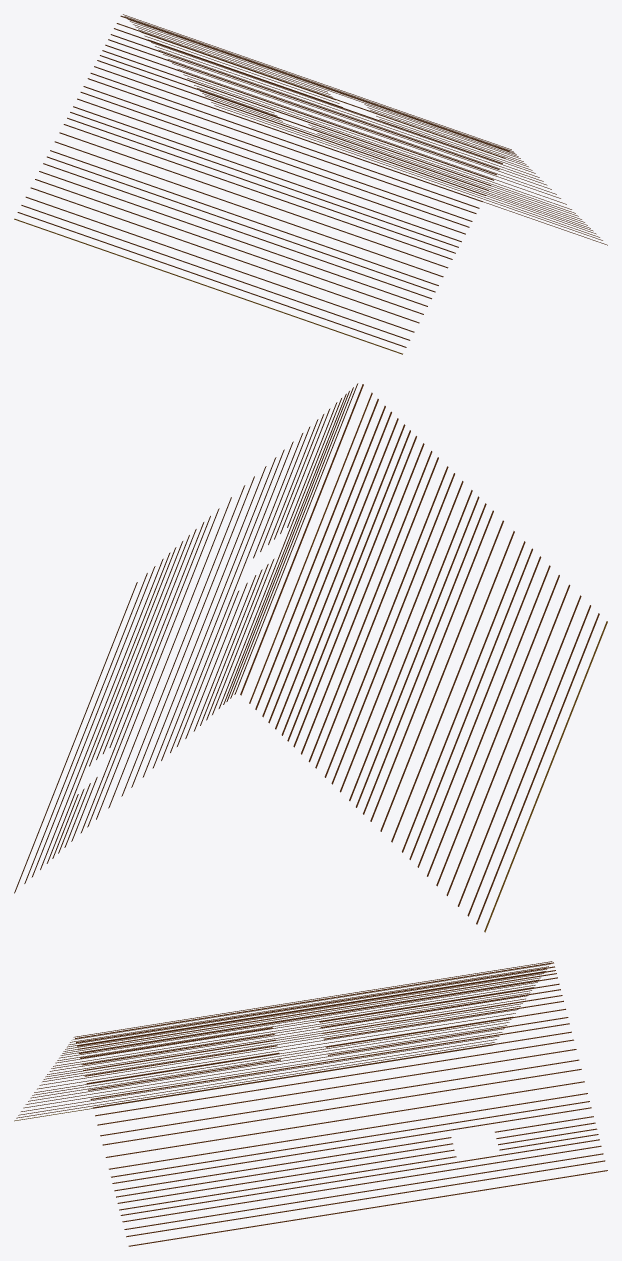
The model's file is late.dae.
3 views of the same model, one above another, from view 1: azimuth 30°, elevation 25°; view 2: azimuth 150°, elevation 25°; view 3: azimuth 270°, elevation 25° (orthographic). The views are drawn at different scales.
Visible parts, largest first — view 1: group_44, group_32, group_42, group_53, group_57, group_58, group_67, group_39, group_46, group_56, group_59, group_60 (+35 smaller); view 2: no part large enough to name; view 3: group_1, group_11, group_21, group_23, group_35, group_38, group_4, group_12, group_17, group_22, group_28, group_34 (+47 smaller).
Boxes of the visible parts, <box> form: group_44: <box>30,187,419,323</box>; group_32: <box>120,15,509,151</box>; group_42: <box>108,39,496,175</box>; group_53: <box>25,196,414,332</box>; group_57: <box>47,156,435,292</box>; group_58: <box>80,92,469,227</box>; group_67: <box>17,212,406,347</box>; group_39: <box>39,171,427,306</box>; group_46: <box>97,60,486,195</box>; group_56: <box>83,86,472,221</box>; group_59: <box>43,163,431,299</box>; group_60: <box>67,117,455,253</box>; group_1: <box>77,973,556,1049</box>; group_11: <box>90,1023,569,1099</box>; group_21: <box>128,1170,607,1246</box>; group_23: <box>105,1081,584,1157</box>; group_35: <box>102,1069,581,1145</box>; group_38: <box>120,1139,599,1215</box>; group_4: <box>124,1153,603,1229</box>; group_12: <box>112,1107,591,1183</box>; group_17: <box>97,1049,576,1125</box>; group_22: <box>95,1039,573,1116</box>; group_28: <box>100,1059,579,1136</box>; group_34: <box>77,970,555,1046</box>.
Size of the model in its own units: 743 by 907 by 256.
3 materials, 2 textured.
